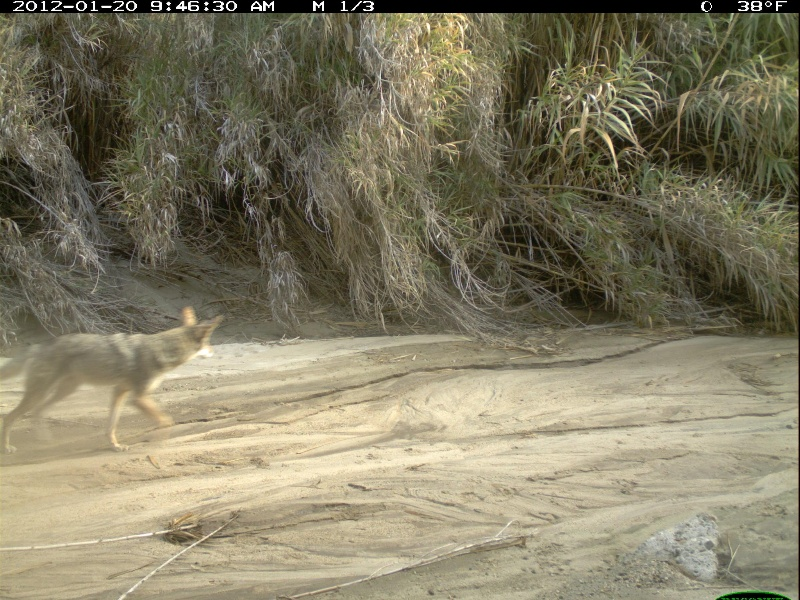coyote: (1, 302, 221, 462)
